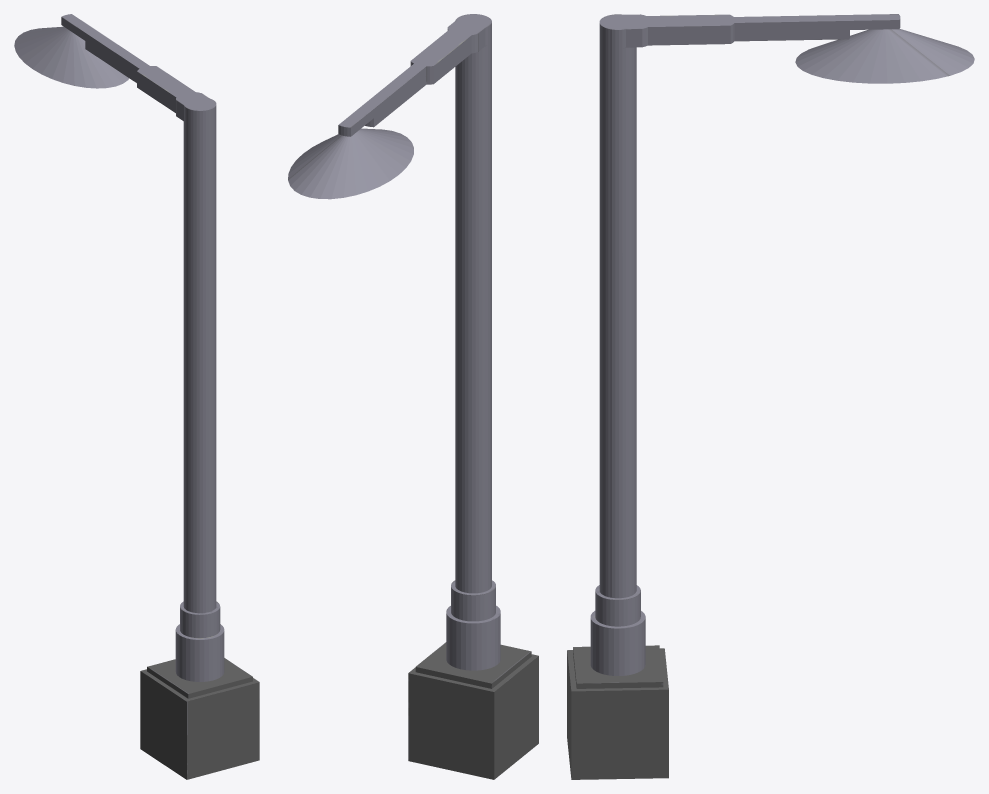
Rendered from STREETLIGHT.fbx.
The picture shows the model from 3 angles, left to right: view 1: azimuth 30°, elevation 25°; view 2: azimuth 150°, elevation 25°; view 3: azimuth 270°, elevation 25°; orthographic projection. The views are drawn at different scales.
Parts seen in each view (by area): view 1: LIGHT; view 2: LIGHT; view 3: LIGHT.
Boxes of the visible parts, <box> form: LIGHT: <box>14,14,259,779</box>; LIGHT: <box>288,14,538,779</box>; LIGHT: <box>567,14,974,779</box>.
Bounding box in the file's own units: 201 × 1394 × 699.
1 material, 1 textured.
